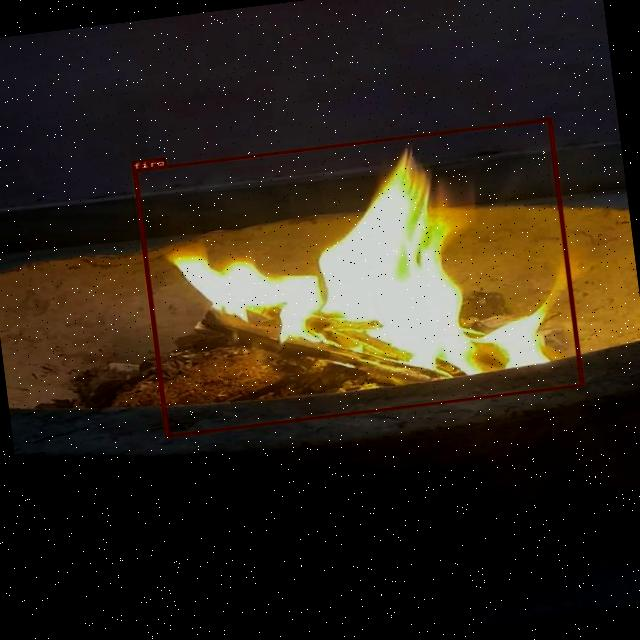fire: (132, 118, 583, 436)
